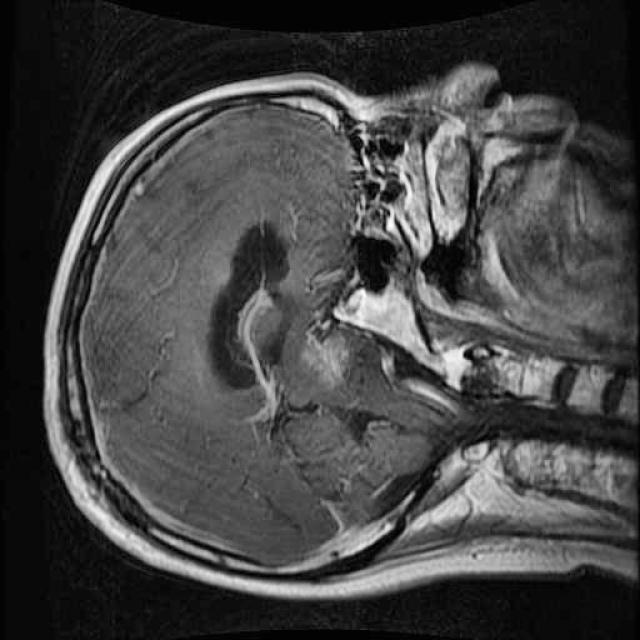Tumor: (286, 293, 364, 402)
